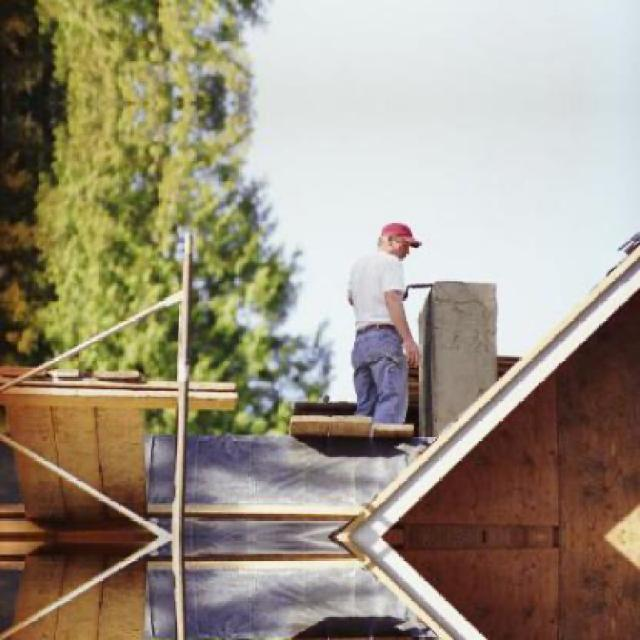sin casco: (335, 216, 416, 277)
